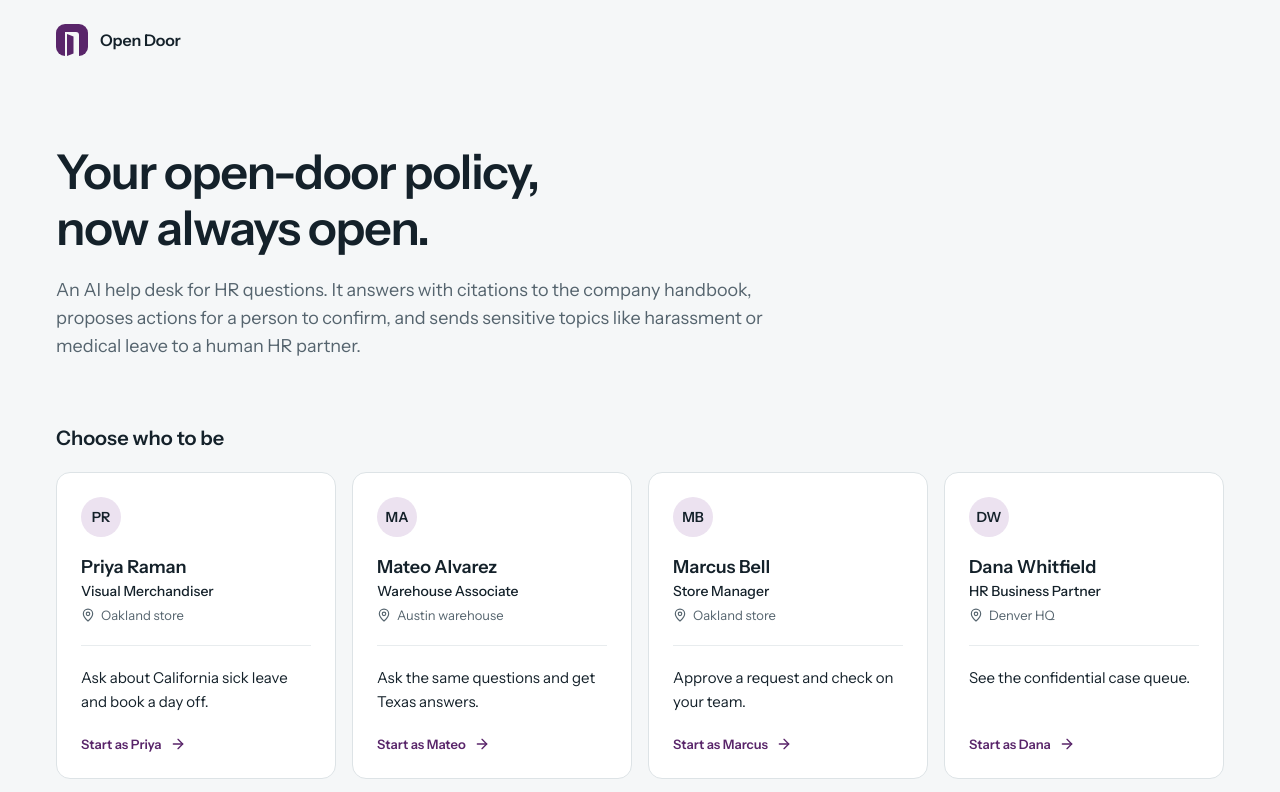
the landing page › takes the error away when a card is chosen again
Click the button "Priya " at (101, 517), box [56,472,336,779]
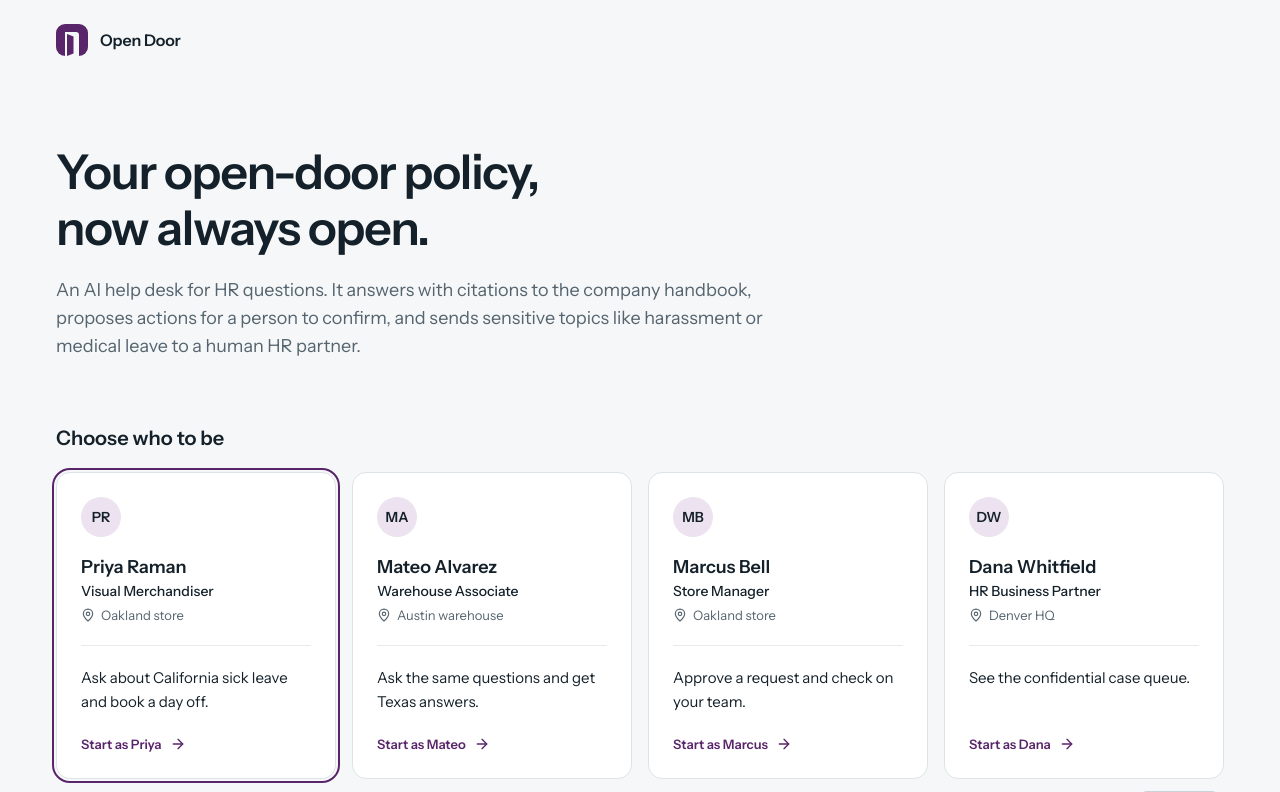
Click the button that starts with "Dana Whitfield" at (989, 517), box [944,472,1224,779]
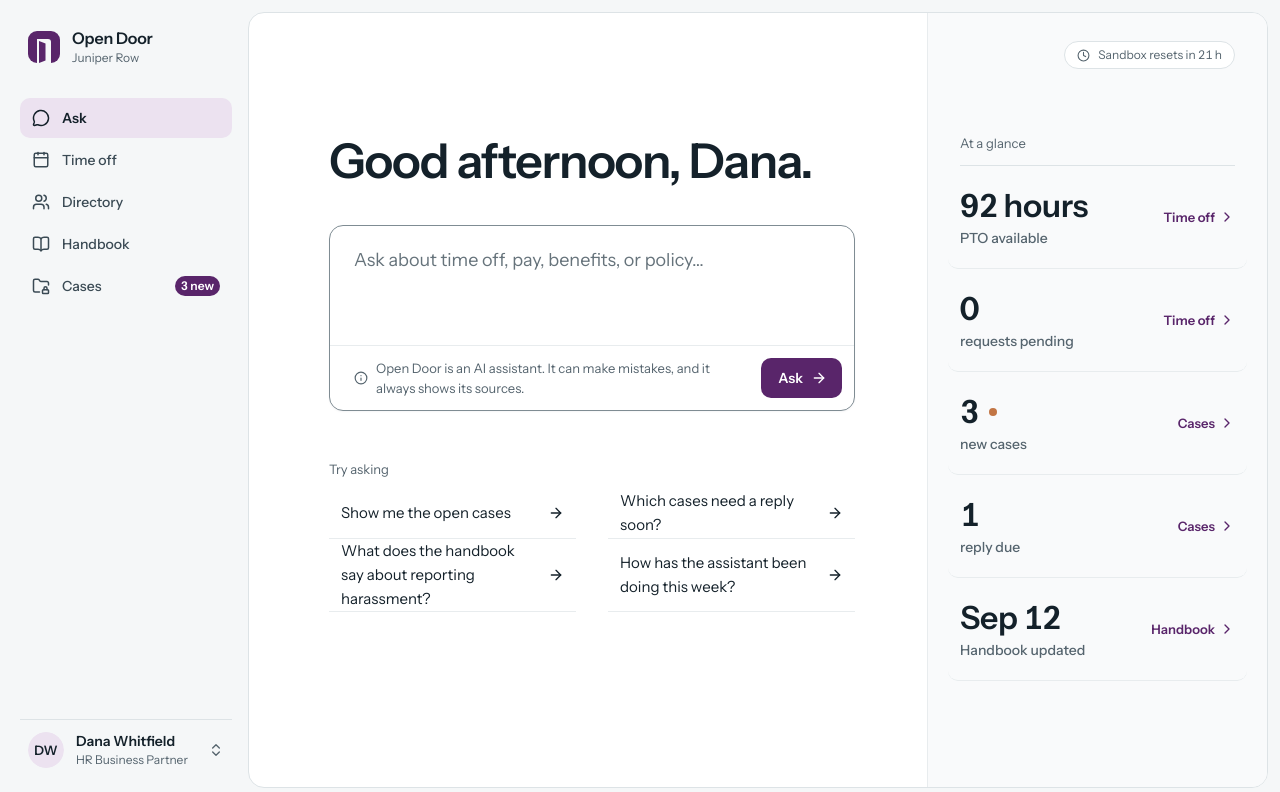
Result: the heading "Good afternoon, Dana." is shown at [329,133,855,189]
